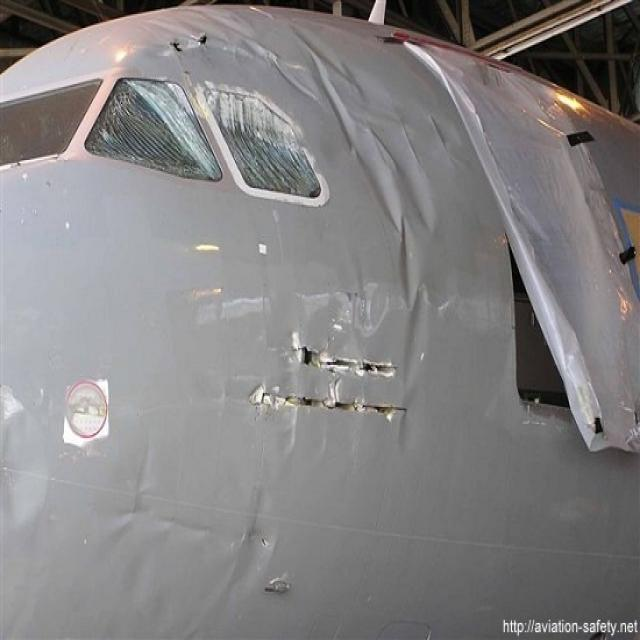crack: (241, 341, 419, 428)
dent: (255, 3, 471, 317)
